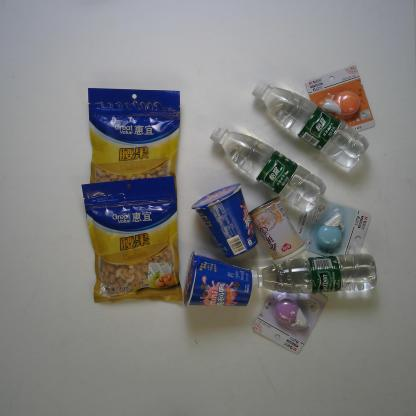Canned Food: (247, 196, 308, 263)
Dessert: (190, 182, 259, 259), (182, 250, 254, 308)
Dried Fruit: (79, 174, 184, 306), (85, 86, 183, 191)
Drink: (251, 79, 371, 170), (209, 126, 328, 214), (251, 252, 378, 296)
Stationery: (252, 289, 329, 355), (304, 65, 376, 133), (297, 198, 372, 256)
